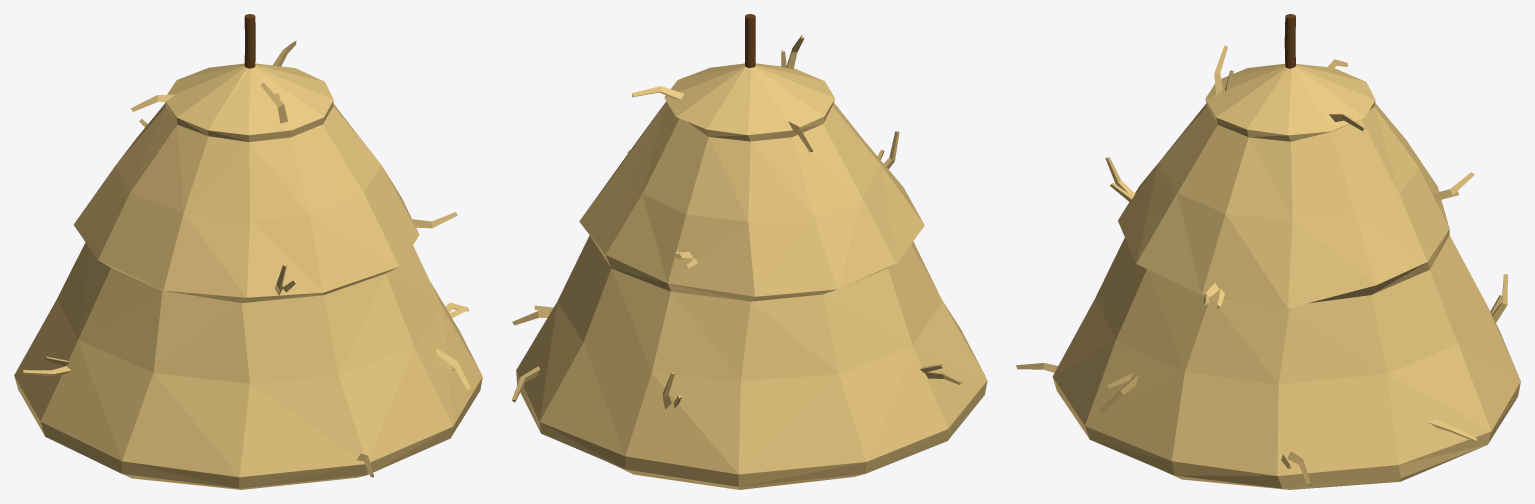
File: straw_pile_03.fbx
3 renders of one model, left to right at view 1: azimuth 30°, elevation 25°; view 2: azimuth 150°, elevation 25°; view 3: azimuth 270°, elevation 25°, orthographic.
Visible parts, largest first — view 1: straw_pile_03; view 2: straw_pile_03; view 3: straw_pile_03.
Boxes of the visible parts, x1,y1,x2,y2 form: straw_pile_03: (14,14,482,489); straw_pile_03: (511,14,987,489); straw_pile_03: (1016,14,1520,489).
Bounding box in the file's own units: 271 × 223 × 264.
